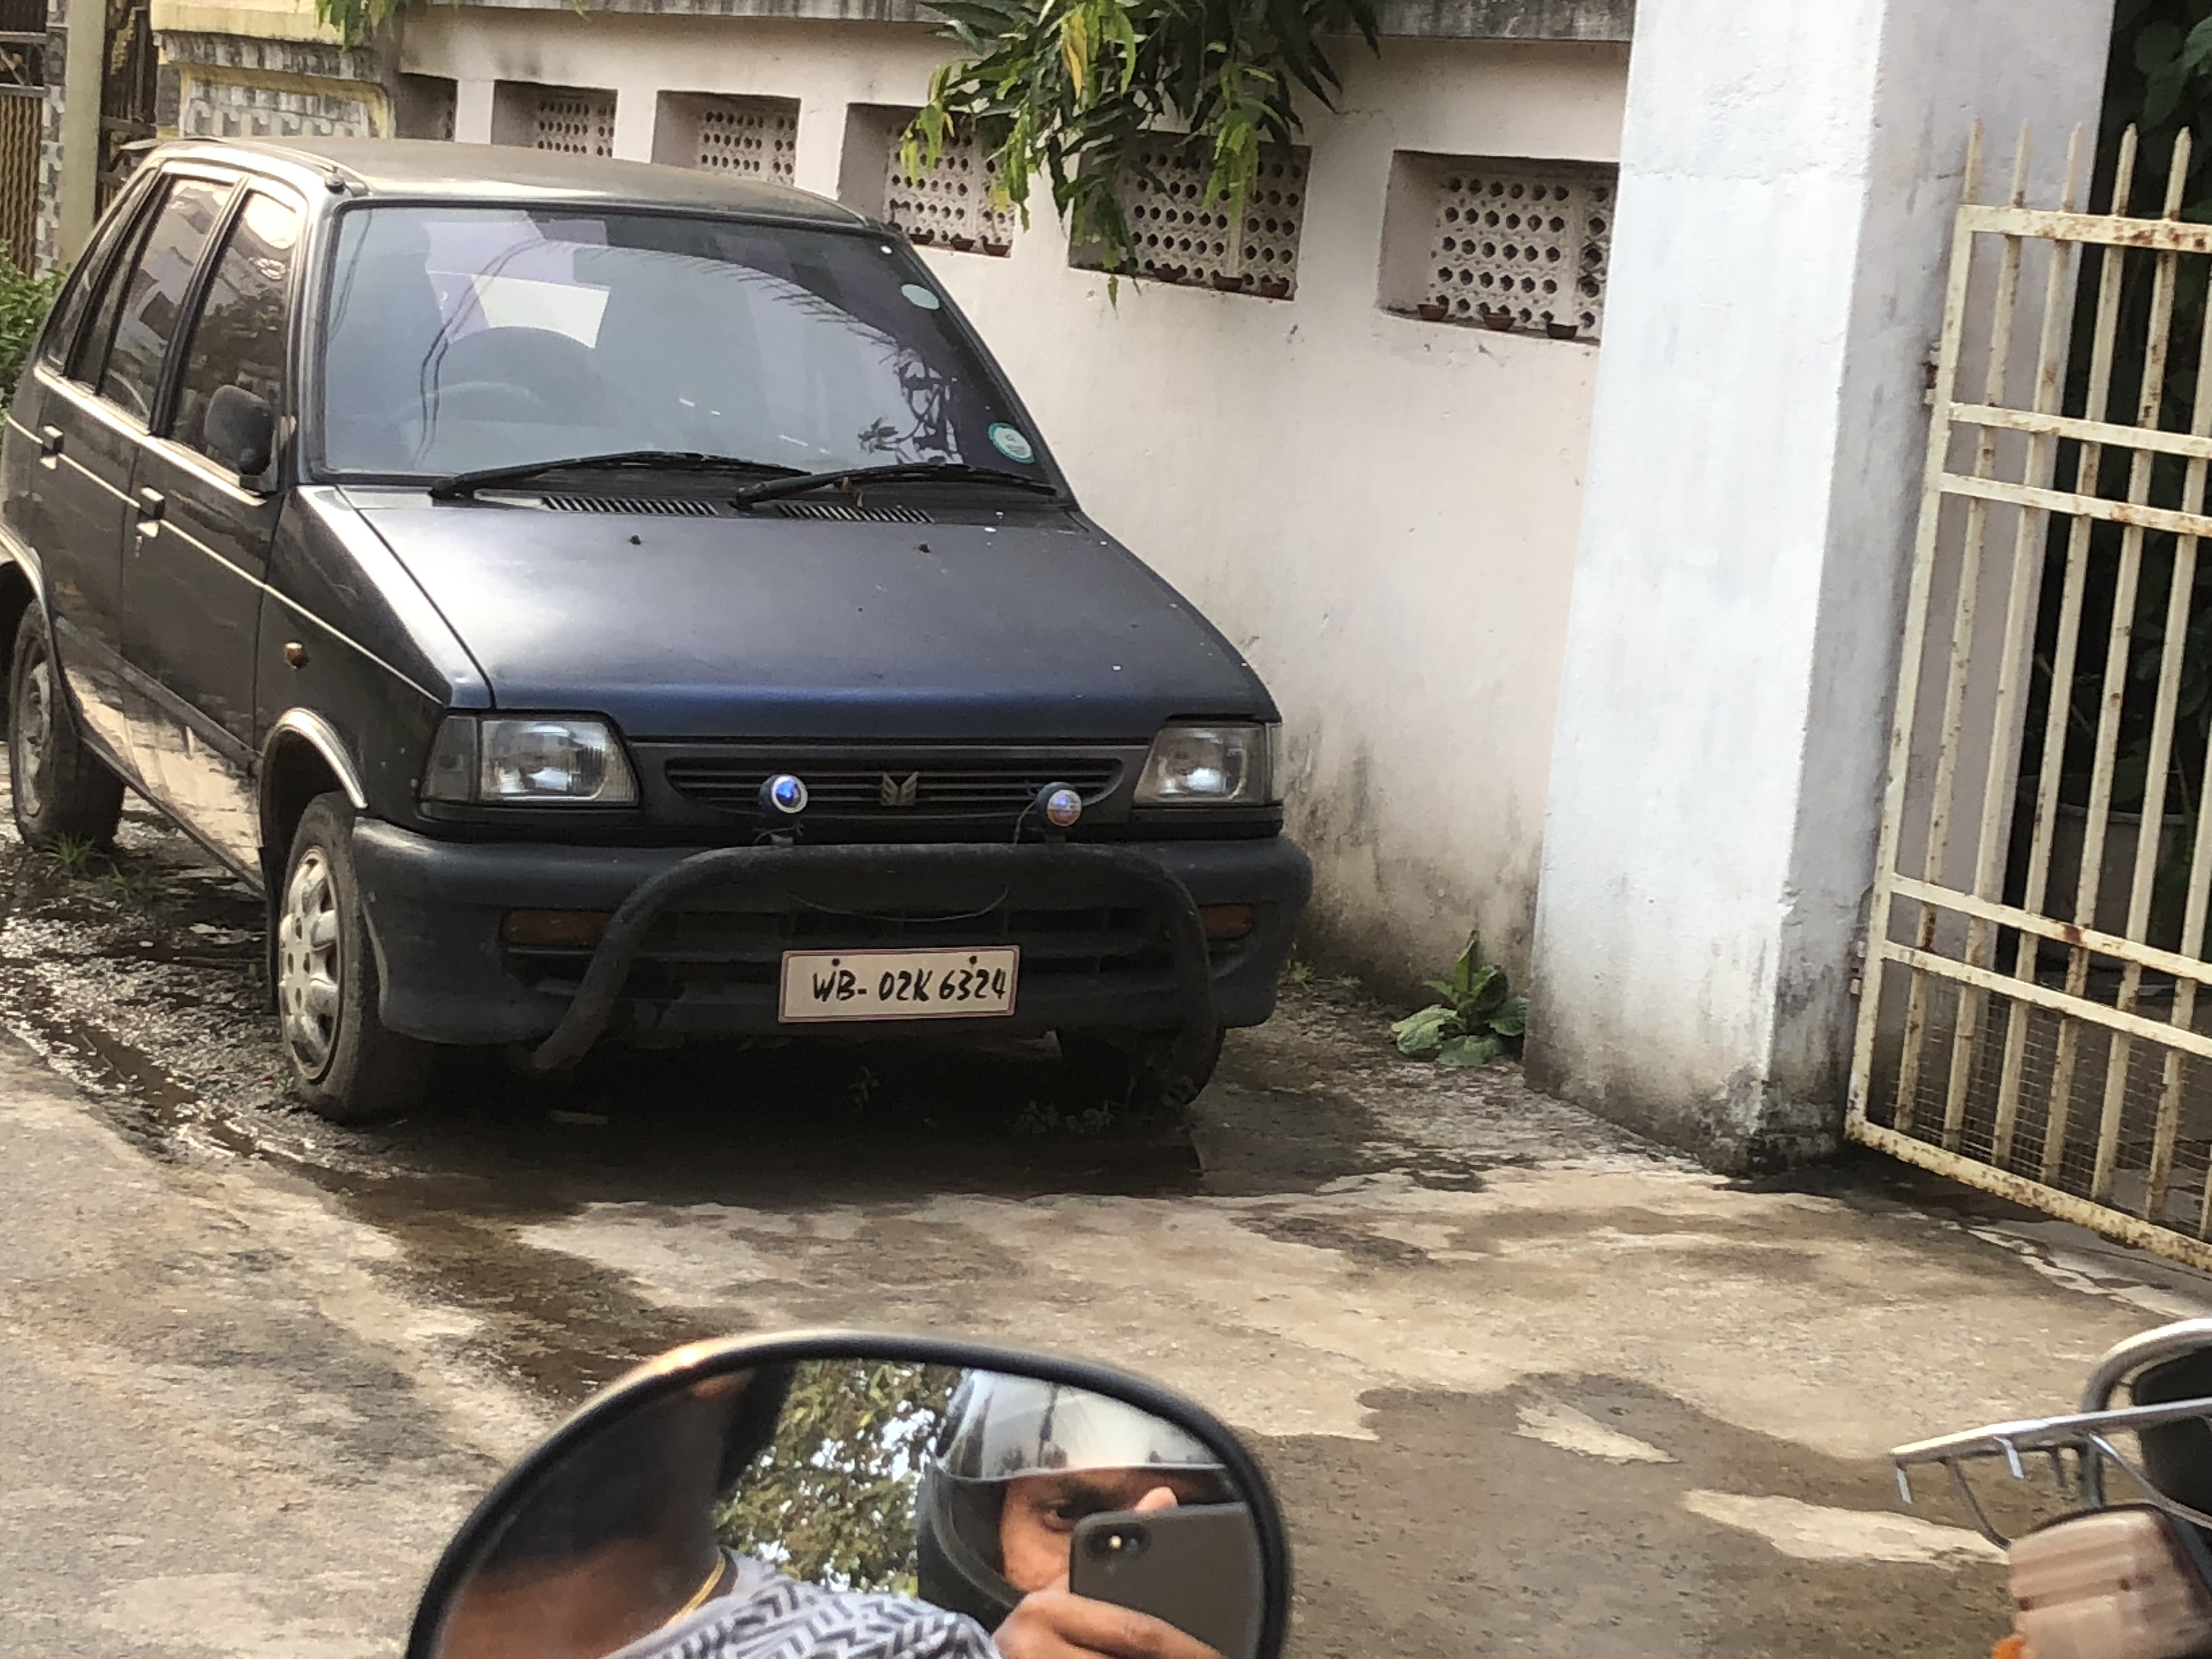licenseplate: (774, 939, 1016, 1028)
